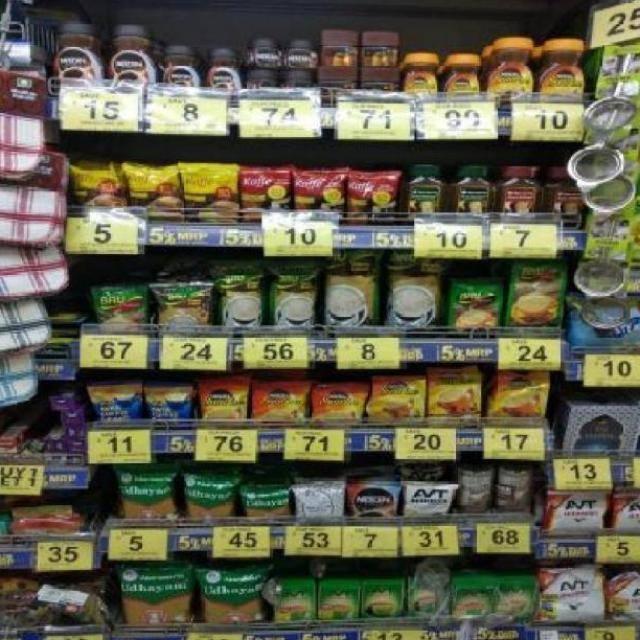Coffee: (52, 21, 102, 95), (109, 21, 157, 97), (485, 39, 533, 109), (429, 366, 481, 427), (494, 368, 547, 427), (538, 39, 587, 102), (371, 376, 425, 427), (312, 382, 364, 430), (255, 382, 305, 426), (200, 382, 245, 429), (349, 480, 398, 523), (160, 45, 200, 97), (207, 46, 243, 99), (445, 54, 483, 104), (403, 53, 437, 107), (285, 39, 319, 70), (247, 39, 281, 69), (283, 73, 315, 104), (249, 71, 279, 104)
